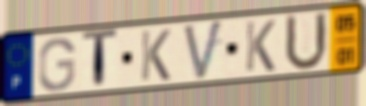G: (36, 35, 77, 94)
K: (243, 18, 277, 74), (139, 28, 173, 83)
T: (80, 27, 120, 92)
U: (283, 10, 330, 74)
V: (182, 18, 226, 84)
